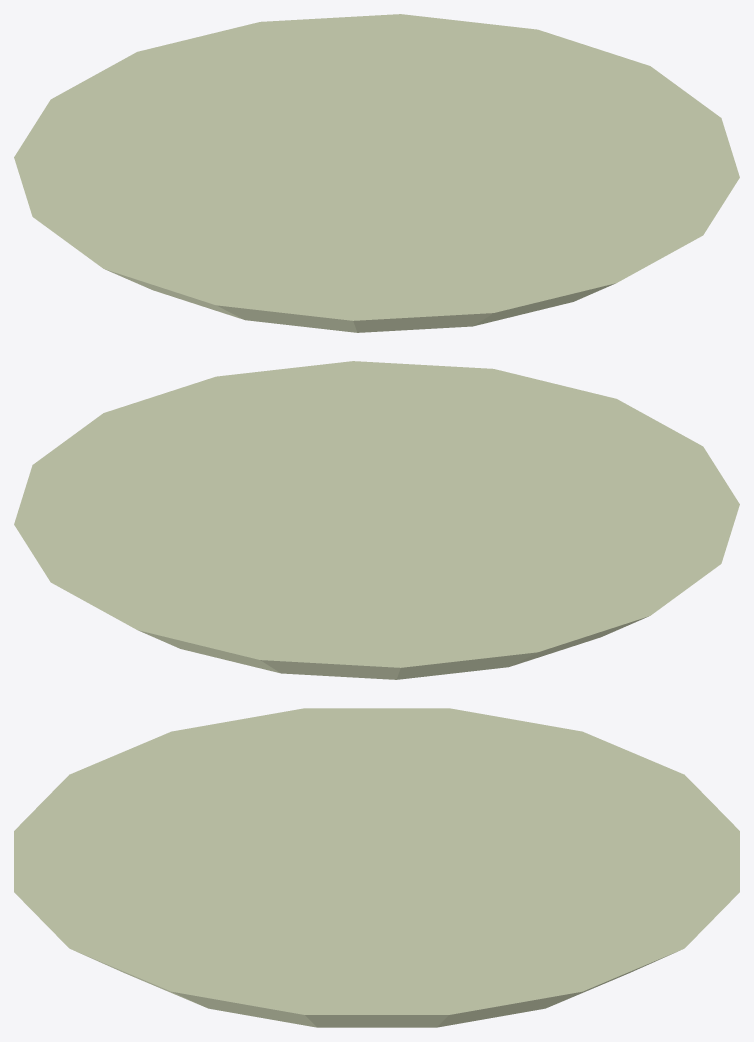
File: Alnair_Heatshield_1_Collider.obj
3 views of the same model, one above another, from view 1: azimuth 30°, elevation 25°; view 2: azimuth 150°, elevation 25°; view 3: azimuth 270°, elevation 25° (orthographic).
Parts seen in each view (by area): view 1: Alnair_Heatshield_1_Collider; view 2: Alnair_Heatshield_1_Collider; view 3: Alnair_Heatshield_1_Collider.
Part boxes in pixels (<box>): Alnair_Heatshield_1_Collider: <box>14,14,739,332</box>; Alnair_Heatshield_1_Collider: <box>14,361,739,679</box>; Alnair_Heatshield_1_Collider: <box>14,708,739,1027</box>.
Bounding box in the file's own units: 1.88 × 0.215 × 1.88.
